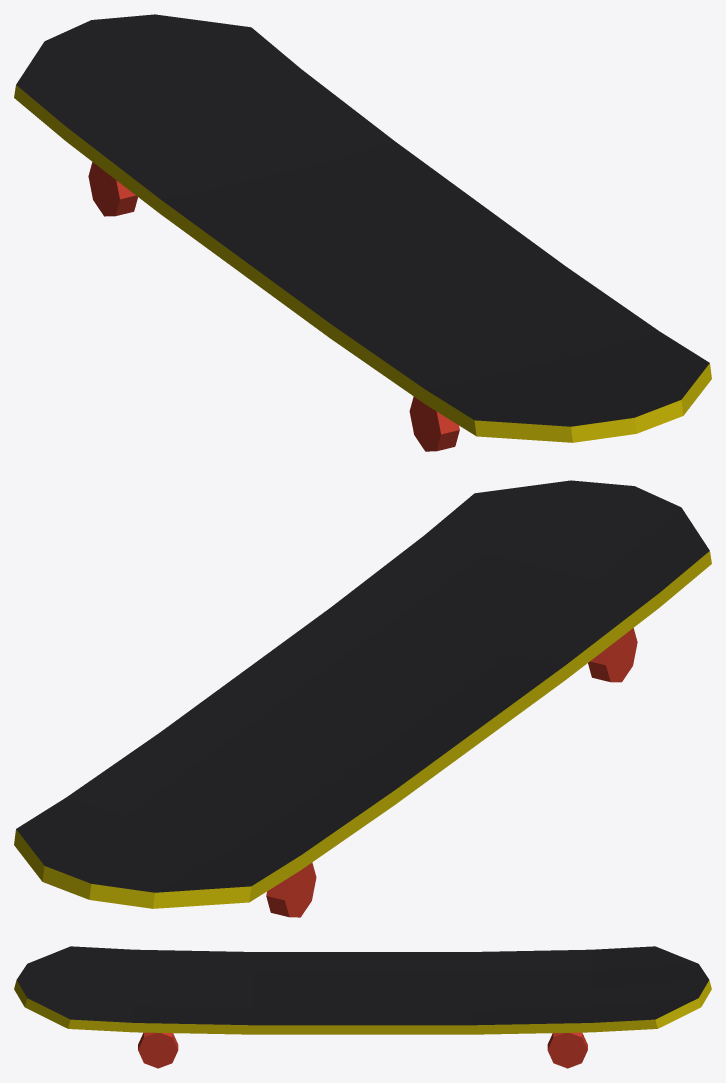
File: SKATE.fbx
3 views of the same model, one above another, from view 1: azimuth 30°, elevation 25°; view 2: azimuth 150°, elevation 25°; view 3: azimuth 270°, elevation 25° (orthographic). The views are drawn at different scales.
Visible parts, largest first — view 1: Cylinder.001, Cylinder.002, Cylinder.004; view 2: Cylinder.001, Cylinder.004, Cylinder.002; view 3: Cylinder.001, Cylinder.005, Cylinder.003.
Boxes of the visible parts, left/top/right/bottom form: Cylinder.001: left=14, top=14, right=711, bottom=442; Cylinder.002: left=409, top=396, right=459, bottom=451; Cylinder.004: left=88, top=162, right=137, bottom=216; Cylinder.001: left=14, top=480, right=711, bottom=908; Cylinder.004: left=266, top=862, right=316, bottom=917; Cylinder.002: left=588, top=628, right=637, bottom=682; Cylinder.001: left=14, top=946, right=711, bottom=1034; Cylinder.005: left=547, top=1032, right=587, bottom=1068; Cylinder.003: left=138, top=1032, right=178, bottom=1068.
Bounding box in the file's own units: 147 × 54.26 × 591.
